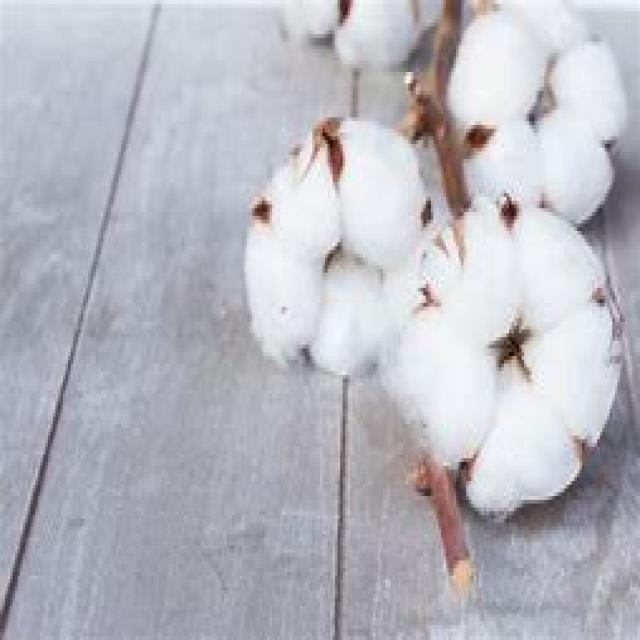Matured Cotton Boll: (392, 193, 632, 521), (241, 108, 435, 390), (443, 0, 629, 220)
